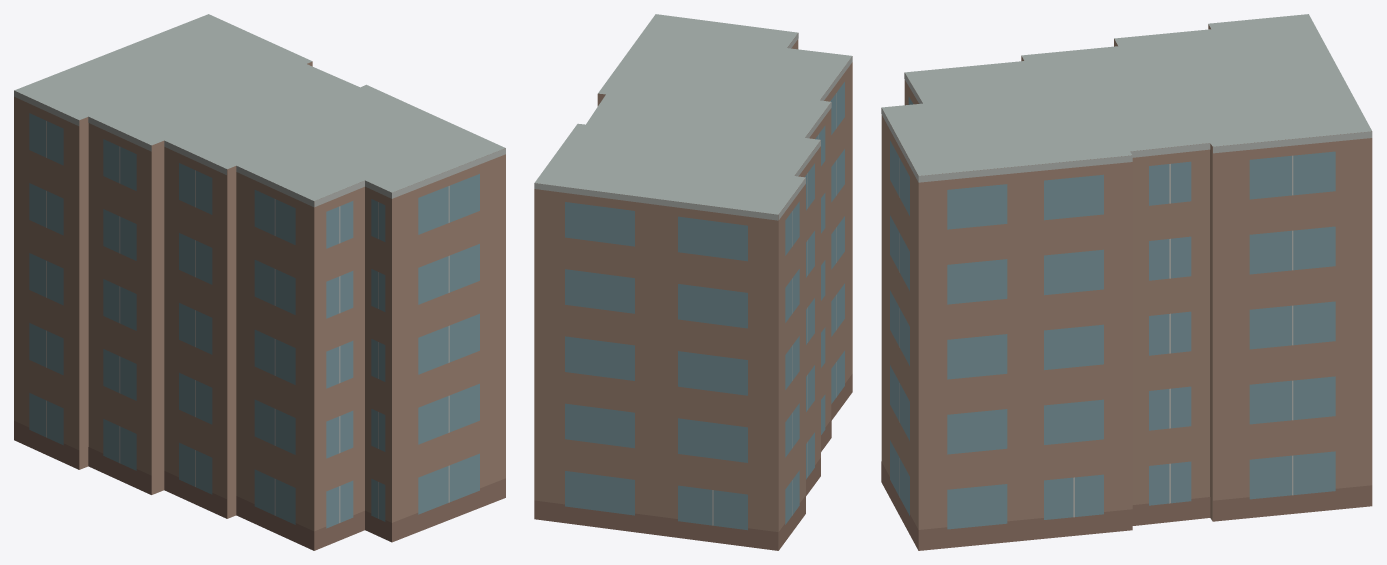
File: survey-upis-32639159.glb
The picture shows the model from 3 angles, left to right: view 1: azimuth 30°, elevation 25°; view 2: azimuth 150°, elevation 25°; view 3: azimuth 270°, elevation 25°; orthographic projection. The views are drawn at different scales.
Visible parts, largest first — view 1: survey-upis-32639159.tmp; view 2: survey-upis-32639159.tmp; view 3: survey-upis-32639159.tmp.
Part boxes in pixels (<box>): survey-upis-32639159.tmp: <box>14,14,505,550</box>; survey-upis-32639159.tmp: <box>534,14,852,550</box>; survey-upis-32639159.tmp: <box>881,14,1372,550</box>.
Bounding box in the file's own units: 12.8 × 13.8 × 16.39.
